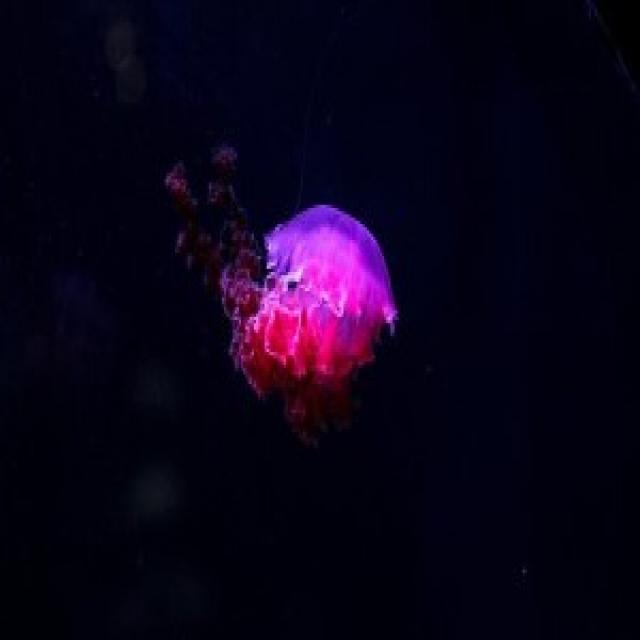Jellyfish: (148, 145, 409, 476)
